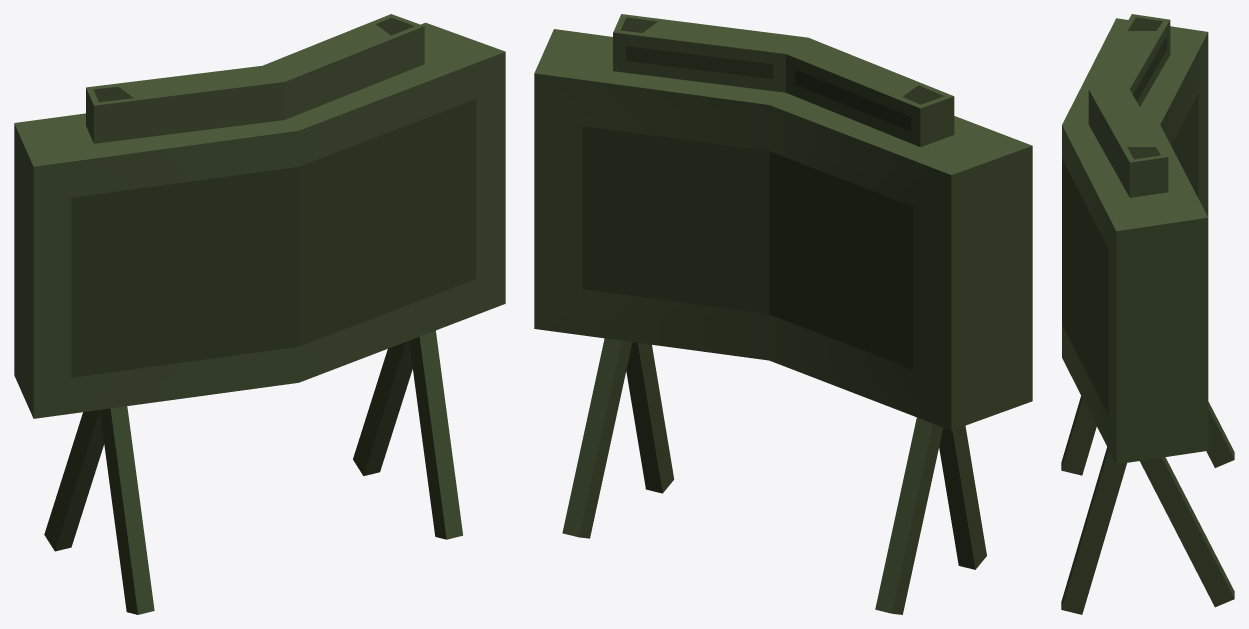
File: Item_Claymore.fbx
3 views of the same model, side by side, from view 1: azimuth 30°, elevation 25°; view 2: azimuth 150°, elevation 25°; view 3: azimuth 270°, elevation 25° (orthographic). The views are drawn at different scales.
Parts seen in each view (by area): view 1: Item_Claymore; view 2: Item_Claymore; view 3: Item_Claymore.
Boxes of the visible parts, x1,y1,x2,y2 form: Item_Claymore: [14, 14, 505, 614]; Item_Claymore: [534, 14, 1032, 614]; Item_Claymore: [1061, 14, 1234, 614].
Bounding box in the file's own units: 106 × 105 × 36.49.
